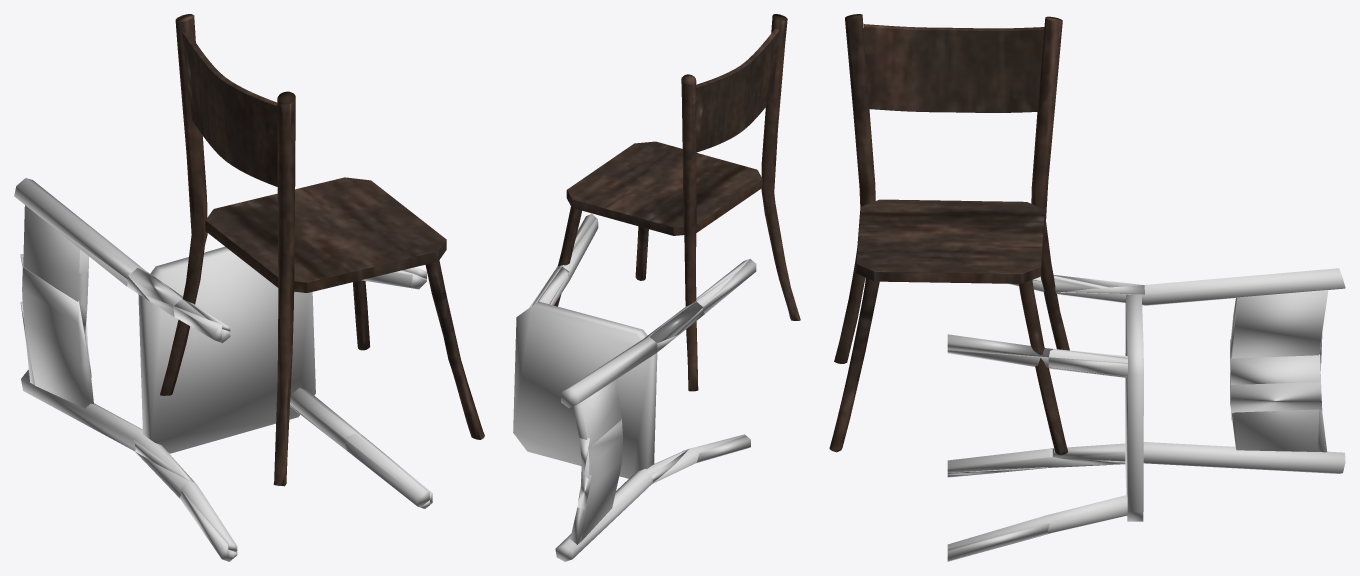
The model's file is SM_Chair.fbx.
The picture shows the model from 3 angles, left to right: view 1: azimuth 30°, elevation 25°; view 2: azimuth 150°, elevation 25°; view 3: azimuth 270°, elevation 25°; orthographic projection. The views are drawn at different scales.
Visible parts, largest first — view 1: SM_Chair_ConvexHulls, SM_Chair; view 2: SM_Chair_ConvexHulls, SM_Chair; view 3: SM_Chair, SM_Chair_ConvexHulls.
Part boxes in pixels (left/top/right/bottom): SM_Chair_ConvexHulls: left=14, top=178, right=432, bottom=561; SM_Chair: left=160, top=14, right=484, bottom=486; SM_Chair_ConvexHulls: left=513, top=213, right=756, bottom=561; SM_Chair: left=554, top=14, right=800, bottom=391; SM_Chair: left=829, top=14, right=1069, bottom=455; SM_Chair_ConvexHulls: left=947, top=268, right=1345, bottom=561.
Bounding box in the file's own units: 0.5823 × 1.28 × 1.28.
